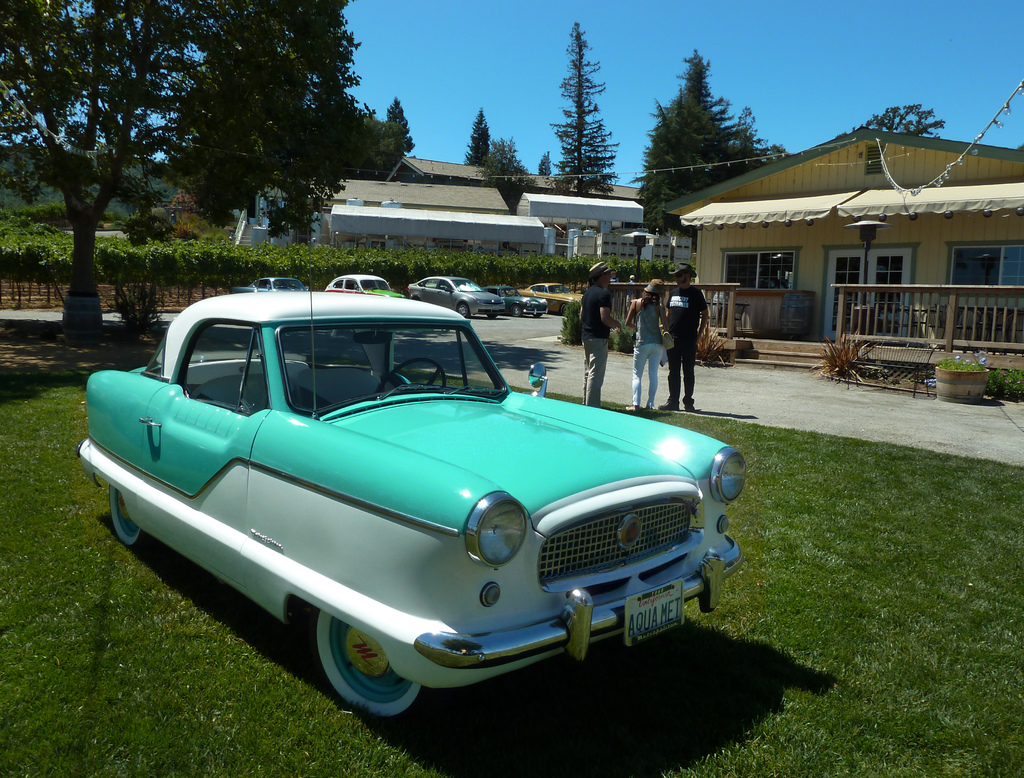Car: (86, 304, 757, 706), (401, 271, 503, 318), (324, 273, 407, 304), (486, 283, 549, 320), (519, 277, 581, 310), (230, 275, 308, 294)
